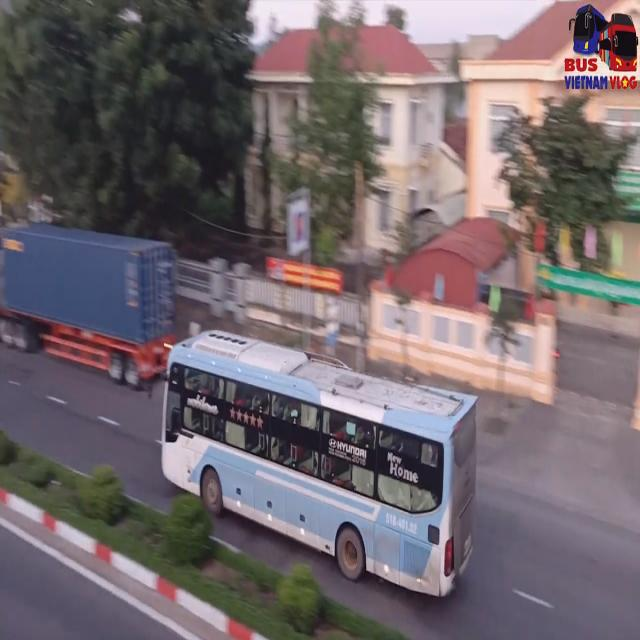bus: (164, 322, 479, 601)
truck: (0, 219, 173, 392)
